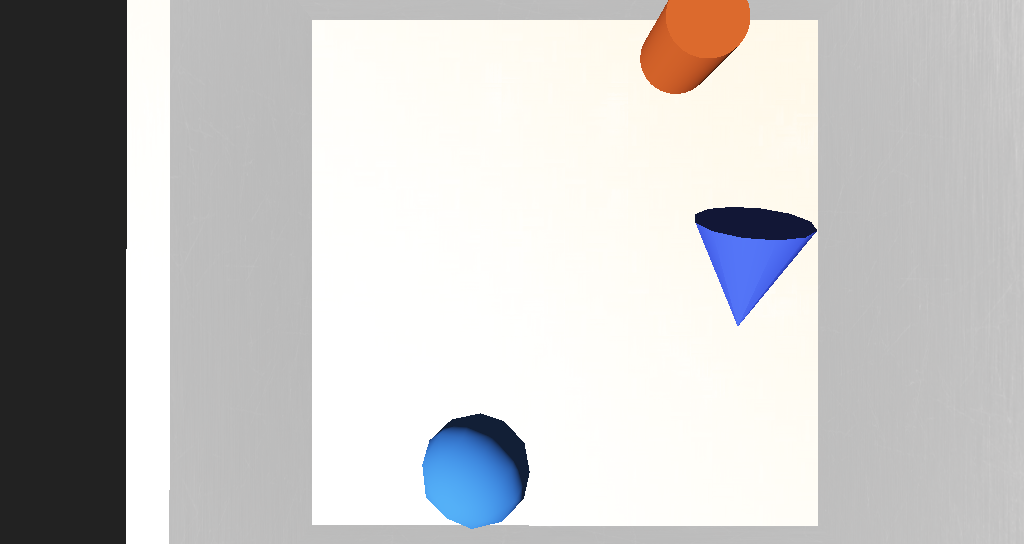cone: (556, 153, 603, 191)
cylinder: (573, 241, 640, 303)
sphere: (418, 324, 485, 372)
